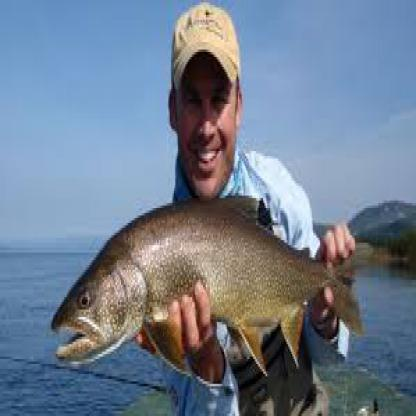fish: (47, 187, 358, 376)
